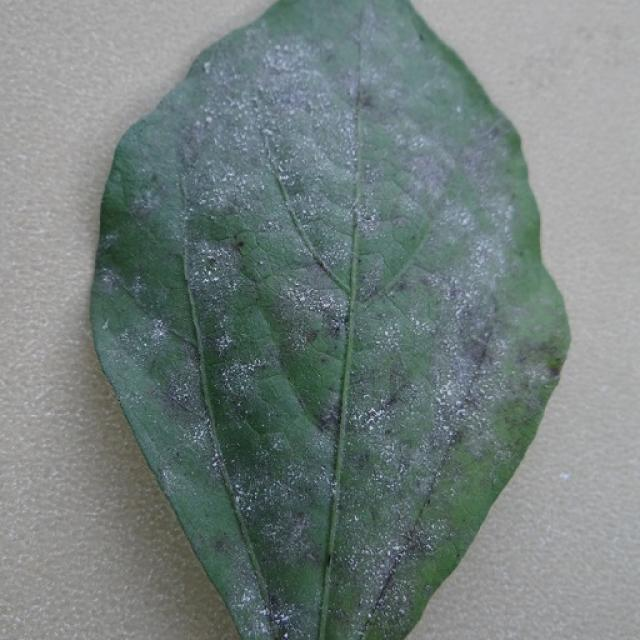Blackgram: (91, 0, 569, 639)
Powdery_Mildew: (417, 337, 503, 454), (267, 269, 347, 351), (250, 33, 339, 105), (375, 289, 450, 374), (431, 252, 496, 340), (225, 433, 291, 516), (395, 134, 460, 211), (373, 510, 427, 591), (196, 135, 255, 198), (189, 244, 243, 307), (457, 213, 507, 278), (133, 171, 168, 218), (224, 361, 266, 400), (360, 405, 389, 429), (99, 269, 121, 291), (150, 318, 170, 342), (217, 333, 236, 353), (240, 590, 256, 606), (254, 620, 269, 636), (212, 450, 223, 468), (103, 233, 117, 247), (262, 127, 276, 140), (441, 423, 453, 437), (278, 171, 290, 184), (206, 252, 218, 264), (397, 462, 407, 475), (279, 613, 290, 624), (203, 61, 212, 74), (319, 462, 328, 474), (259, 607, 269, 617), (298, 292, 307, 303), (205, 265, 213, 276), (278, 164, 286, 174), (234, 483, 242, 492), (205, 115, 213, 124), (456, 105, 463, 114), (234, 494, 241, 503), (387, 549, 394, 557), (384, 329, 391, 337), (366, 612, 373, 620), (210, 214, 217, 222), (353, 514, 359, 522), (237, 401, 243, 409), (357, 635, 366, 640), (259, 259, 265, 266), (143, 342, 148, 348), (282, 636, 289, 640)
